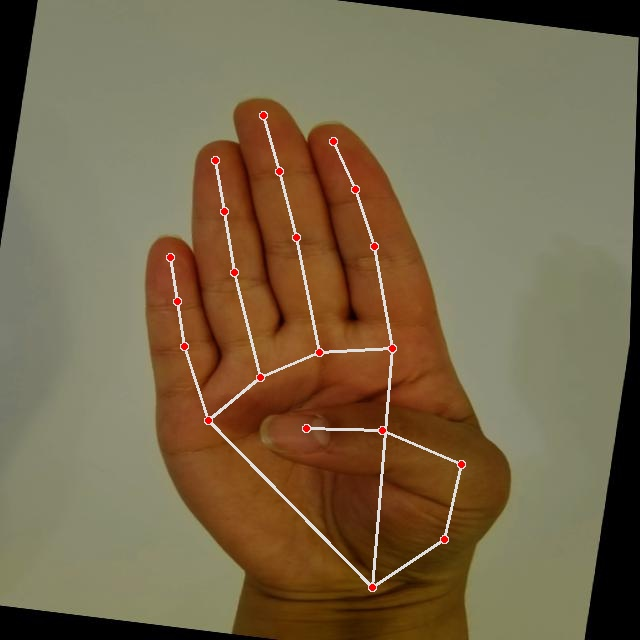B: (89, 77, 582, 634)
